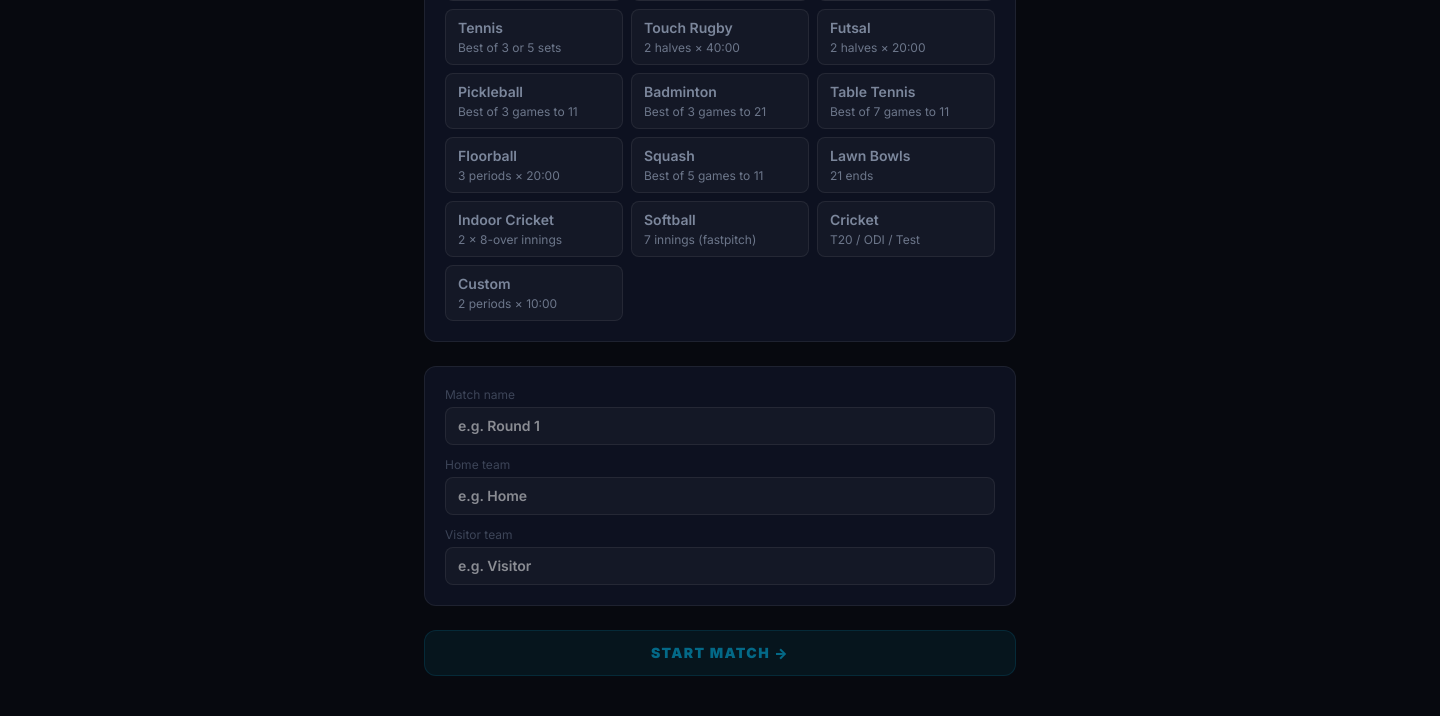
Test: SetupPage › shows a generic error when match creation fails
The image size is (1440, 716).
(page scrolled)
Type "Round 1" into the field with test id "setup-match-name". click: (720, 426)
box: [445,407,995,445]
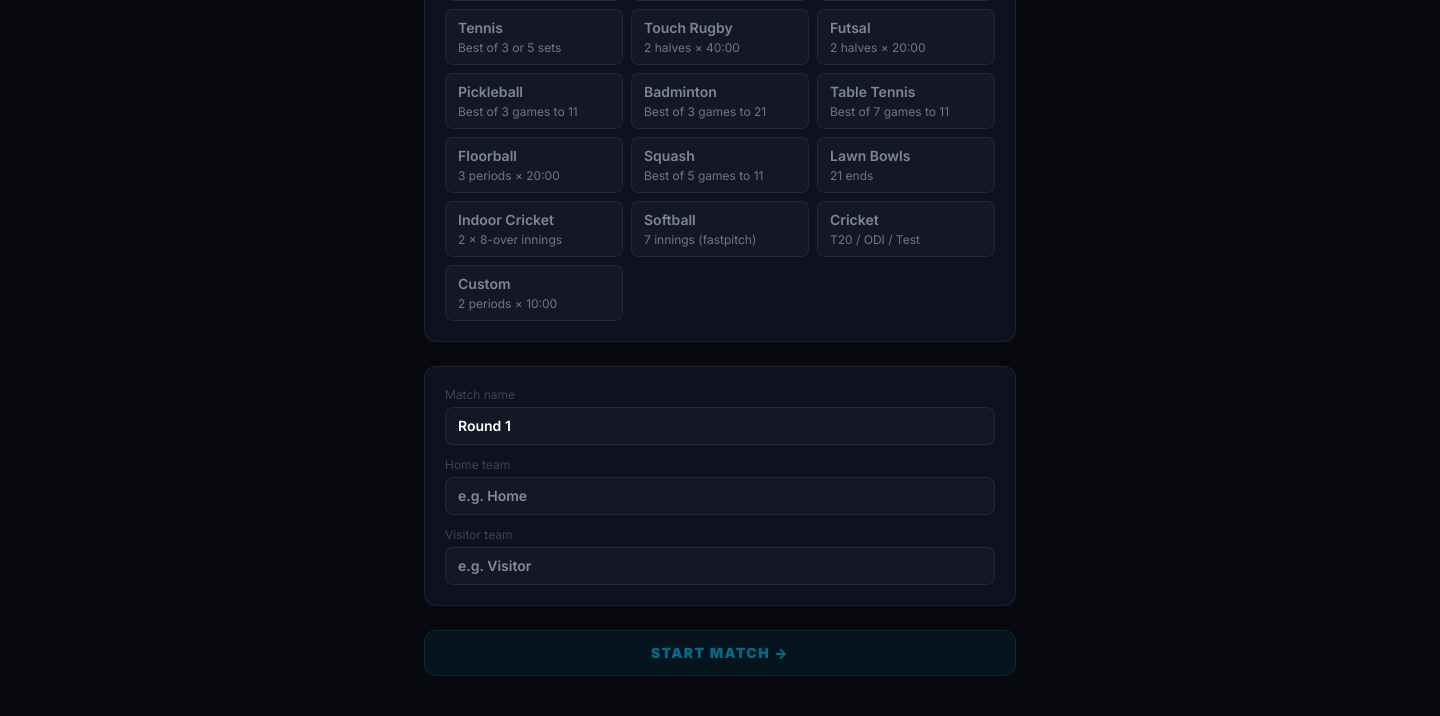
Type "Sharks" into the field with test id "setup-home-name". click: (720, 496)
box: [445,477,995,515]
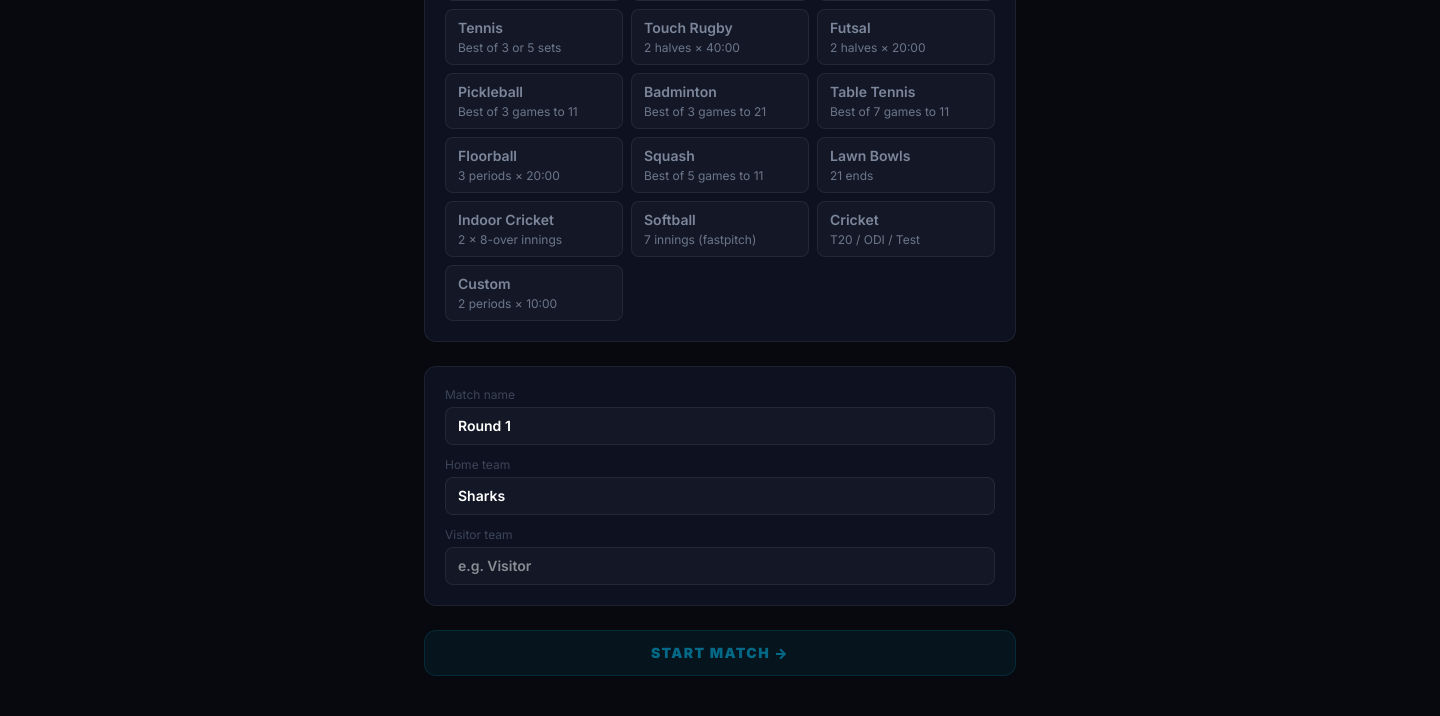
Type "Magic" into the field with test id "setup-visitor-name". click: (720, 566)
box: [445,547,995,585]
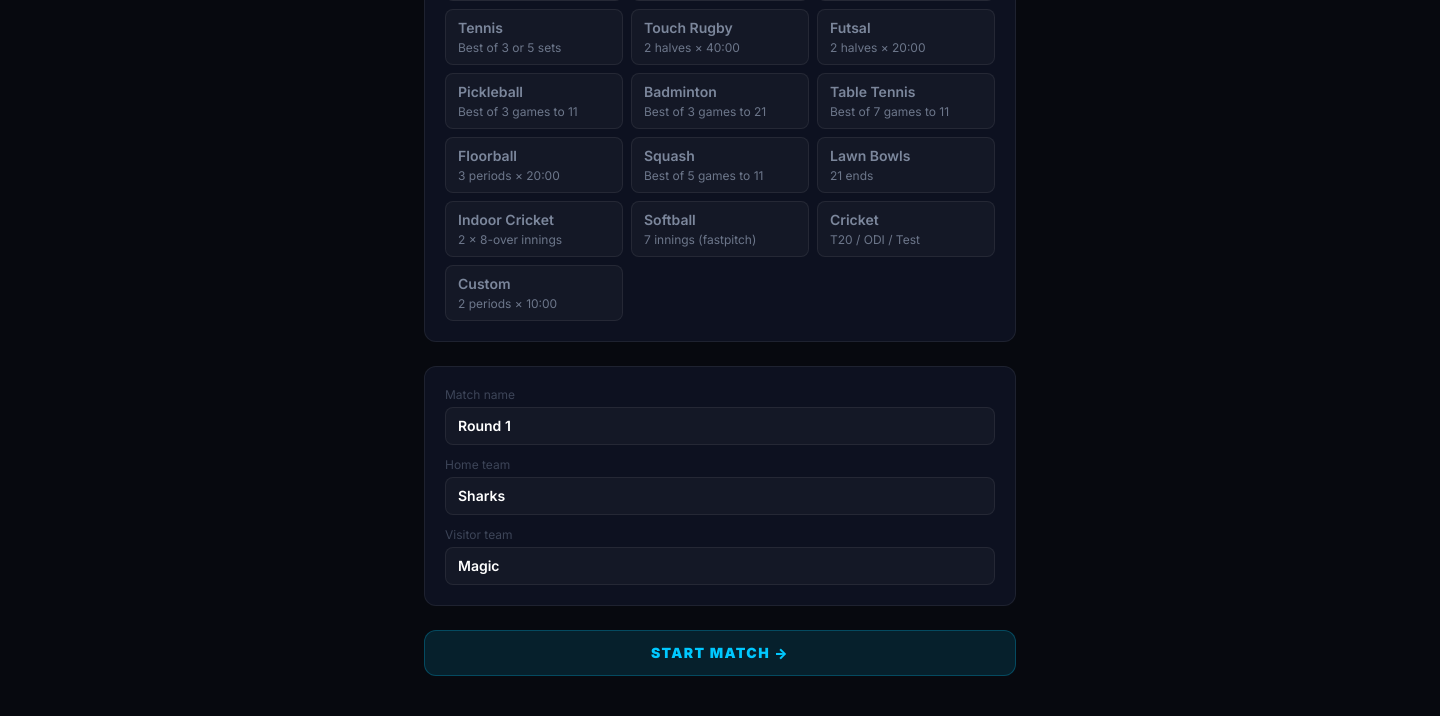
Click the button with test id "setup-submit". click: (720, 653)
box: [424,630,1016,676]
(page scrolled)
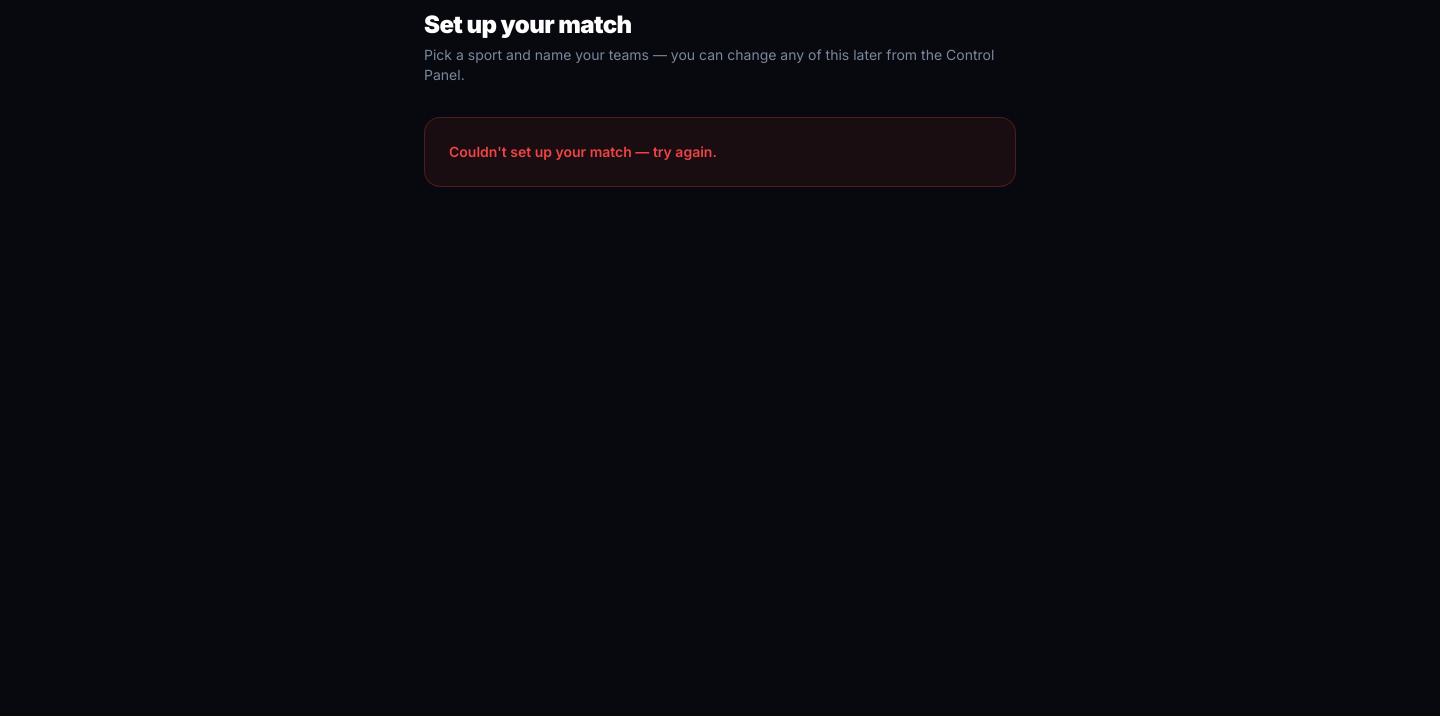
expect the text "Couldn't set up your match — try again." is shown: met, box [424,117,1016,187]
